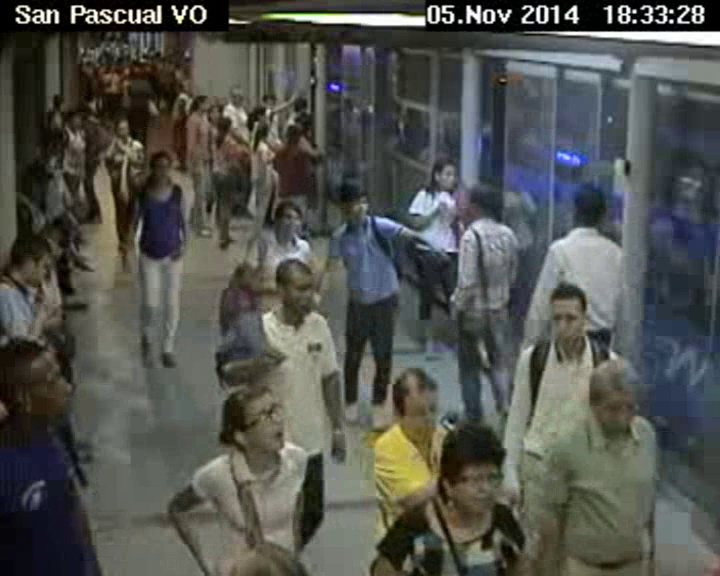person: (419, 417, 510, 512), (1, 334, 96, 424), (213, 384, 297, 460), (378, 358, 440, 437), (582, 362, 645, 433), (1, 237, 63, 293), (549, 278, 589, 356), (274, 255, 315, 325), (567, 178, 603, 233), (271, 201, 308, 239), (144, 150, 179, 186), (342, 181, 372, 222), (430, 157, 461, 194), (465, 183, 494, 219), (19, 166, 48, 199), (247, 104, 269, 127), (190, 94, 211, 117), (226, 83, 245, 106), (110, 118, 132, 137), (282, 124, 304, 143), (261, 96, 284, 111), (252, 122, 268, 142), (67, 114, 82, 132), (175, 80, 190, 96), (290, 96, 307, 110), (47, 93, 62, 108), (216, 116, 231, 131), (208, 104, 221, 121)
